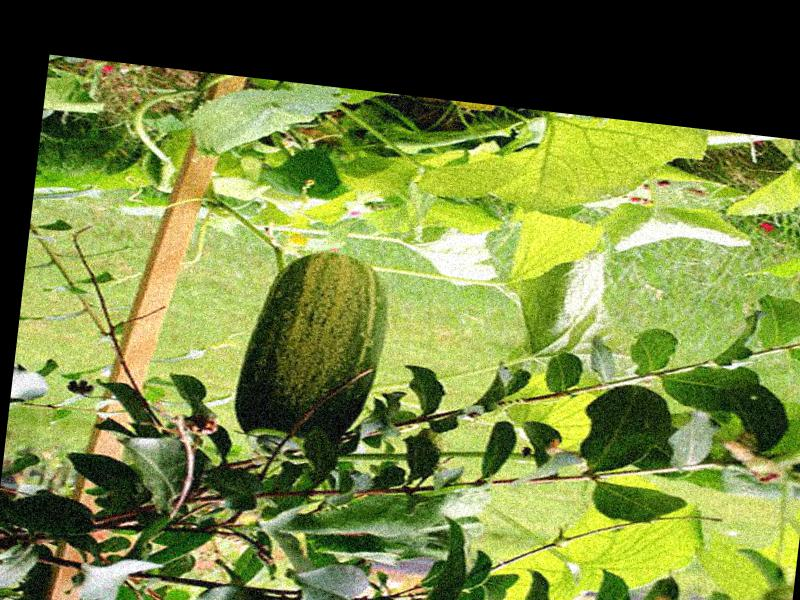Cucumber: (226, 242, 390, 469)
